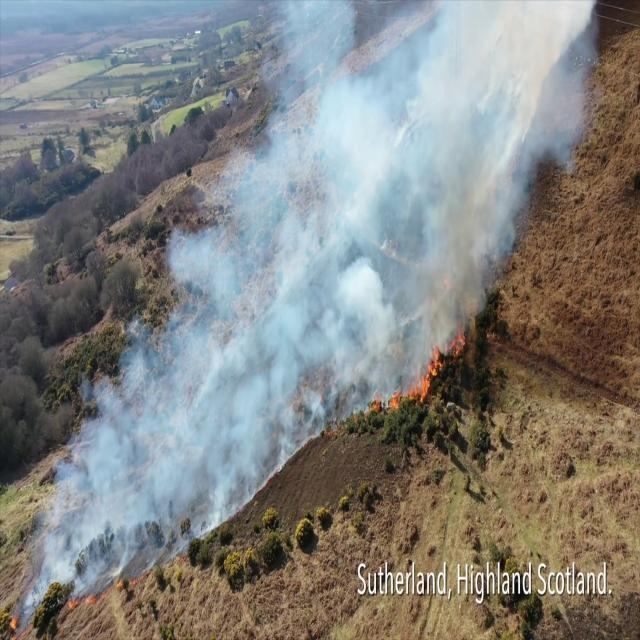Fire: (406, 355, 442, 411)
Smoke: (282, 0, 397, 215), (424, 0, 529, 231), (72, 356, 215, 523), (178, 217, 251, 517), (266, 281, 384, 421)
